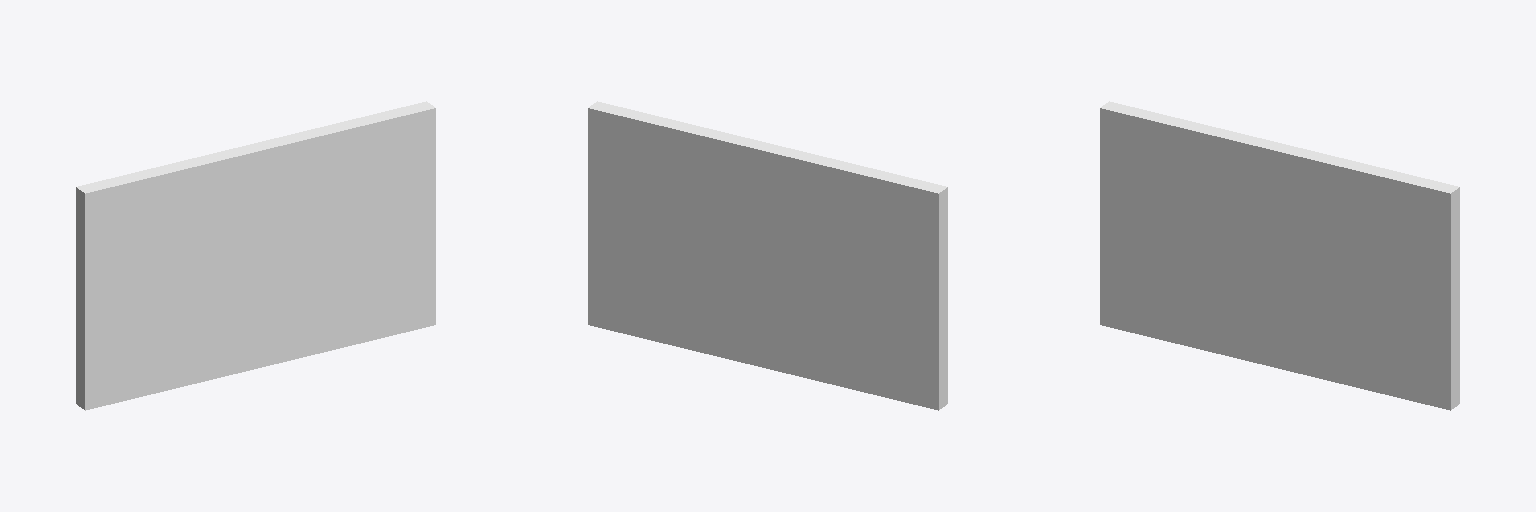
Rendered from flag:america.obj.
3 views of the same model, side by side, from view 1: azimuth 30°, elevation 25°; view 2: azimuth 150°, elevation 25°; view 3: azimuth 330°, elevation 25° (orthographic).
Visible parts, largest first — view 1: flag:america; view 2: flag:america; view 3: flag:america.
Boxes of the visible parts, x1=… form: flag:america: x1=76, y1=101, x2=435, y2=410; flag:america: x1=588, y1=101, x2=947, y2=410; flag:america: x1=1100, y1=101, x2=1459, y2=410.
Bounding box in the file's own units: 22 × 13 × 1.